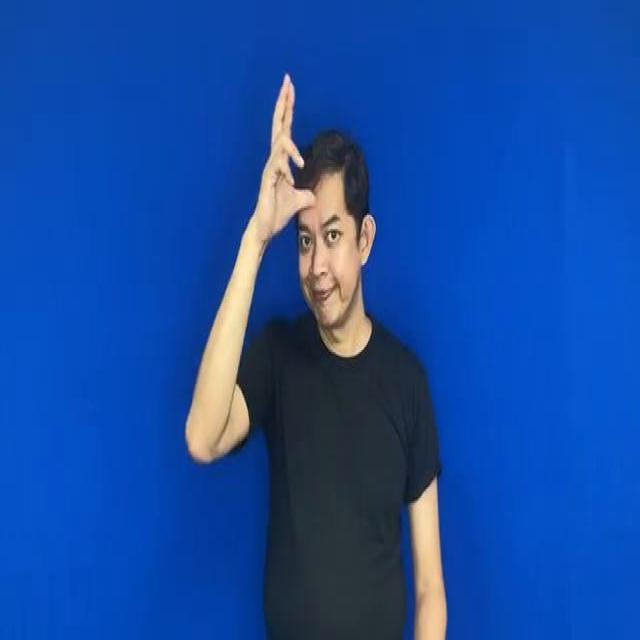chicken: (250, 68, 314, 238)
